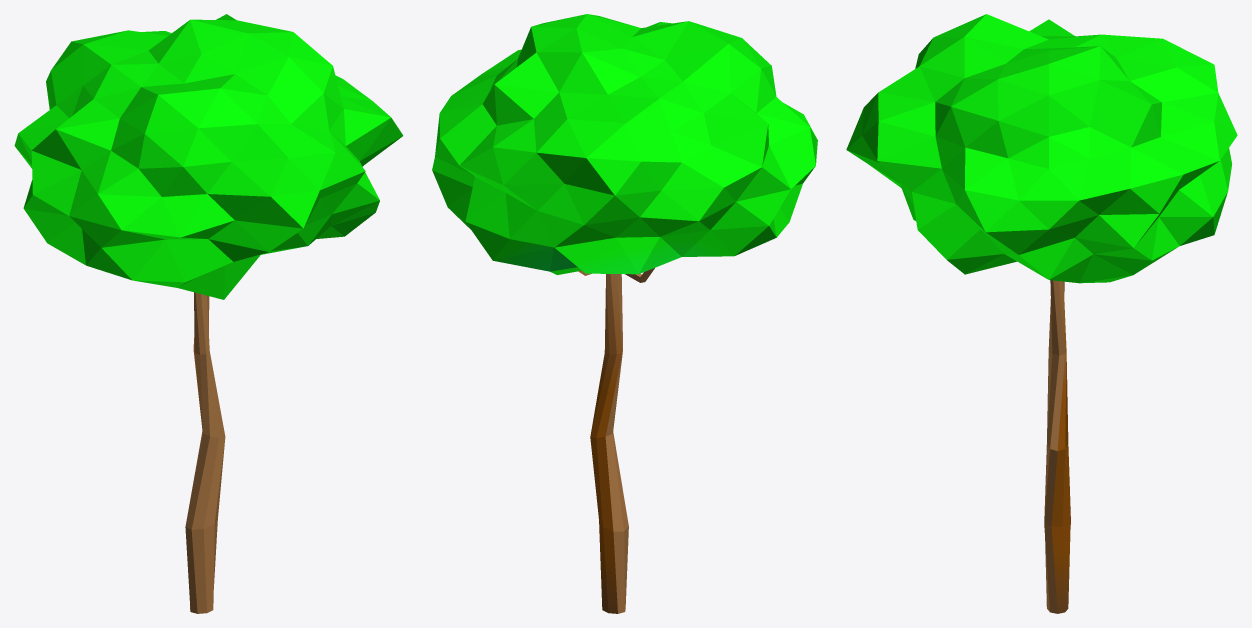
Rendered from SM_Env_Tree_04.fbx.
3 views of the same model, side by side, from view 1: azimuth 30°, elevation 25°; view 2: azimuth 150°, elevation 25°; view 3: azimuth 270°, elevation 25° (orthographic).
Parts seen in each view (by area): view 1: SM_Env_Tree_04; view 2: SM_Env_Tree_04; view 3: SM_Env_Tree_04.
Part boxes in pixels (<box>): SM_Env_Tree_04: <box>14,14,403,613</box>; SM_Env_Tree_04: <box>432,14,817,613</box>; SM_Env_Tree_04: <box>846,14,1237,613</box>.
Bounding box in the file's own units: 1248 × 2012 × 1258.
